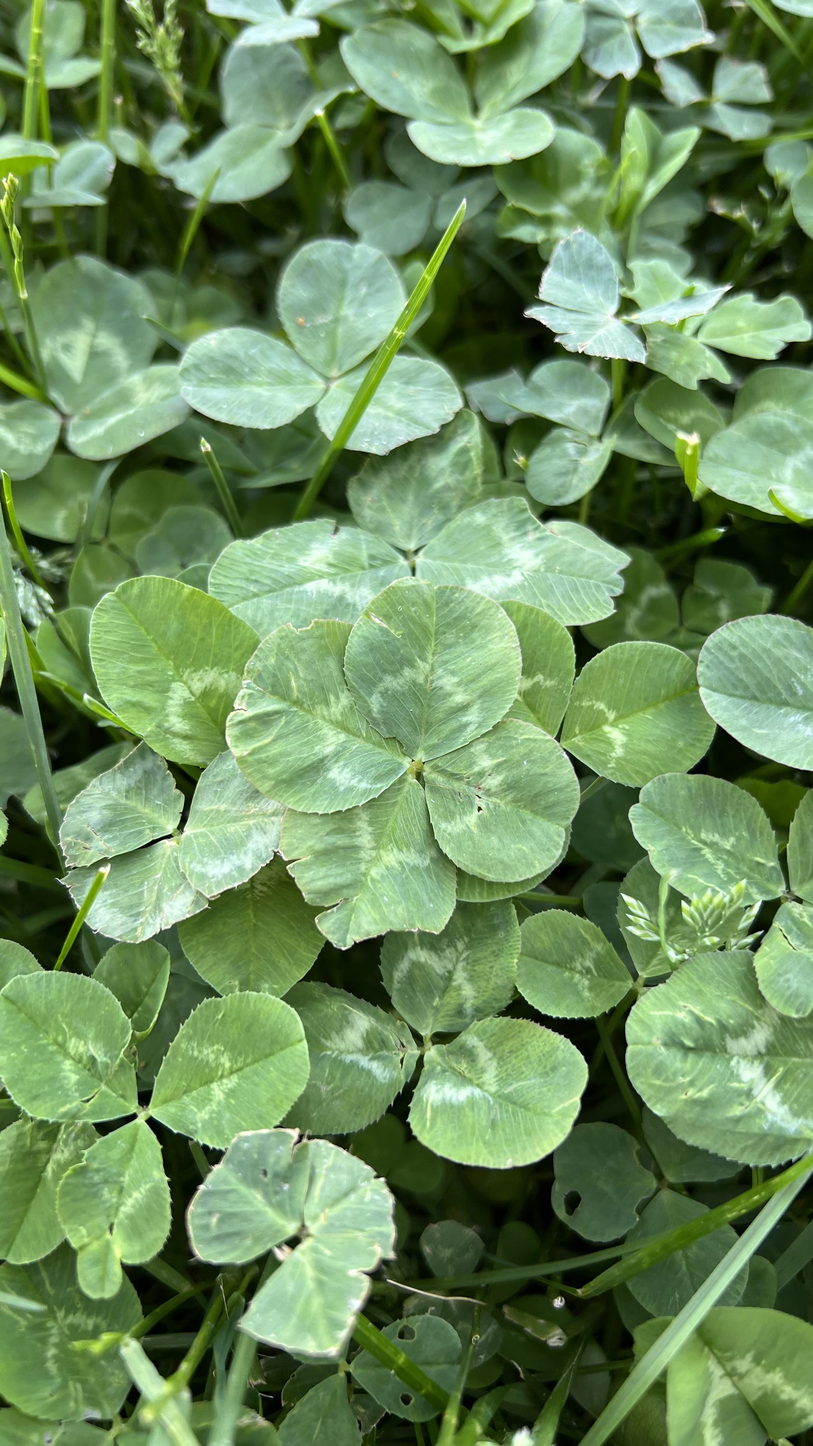4-Leaf-Clovers: (241, 583, 581, 935)
